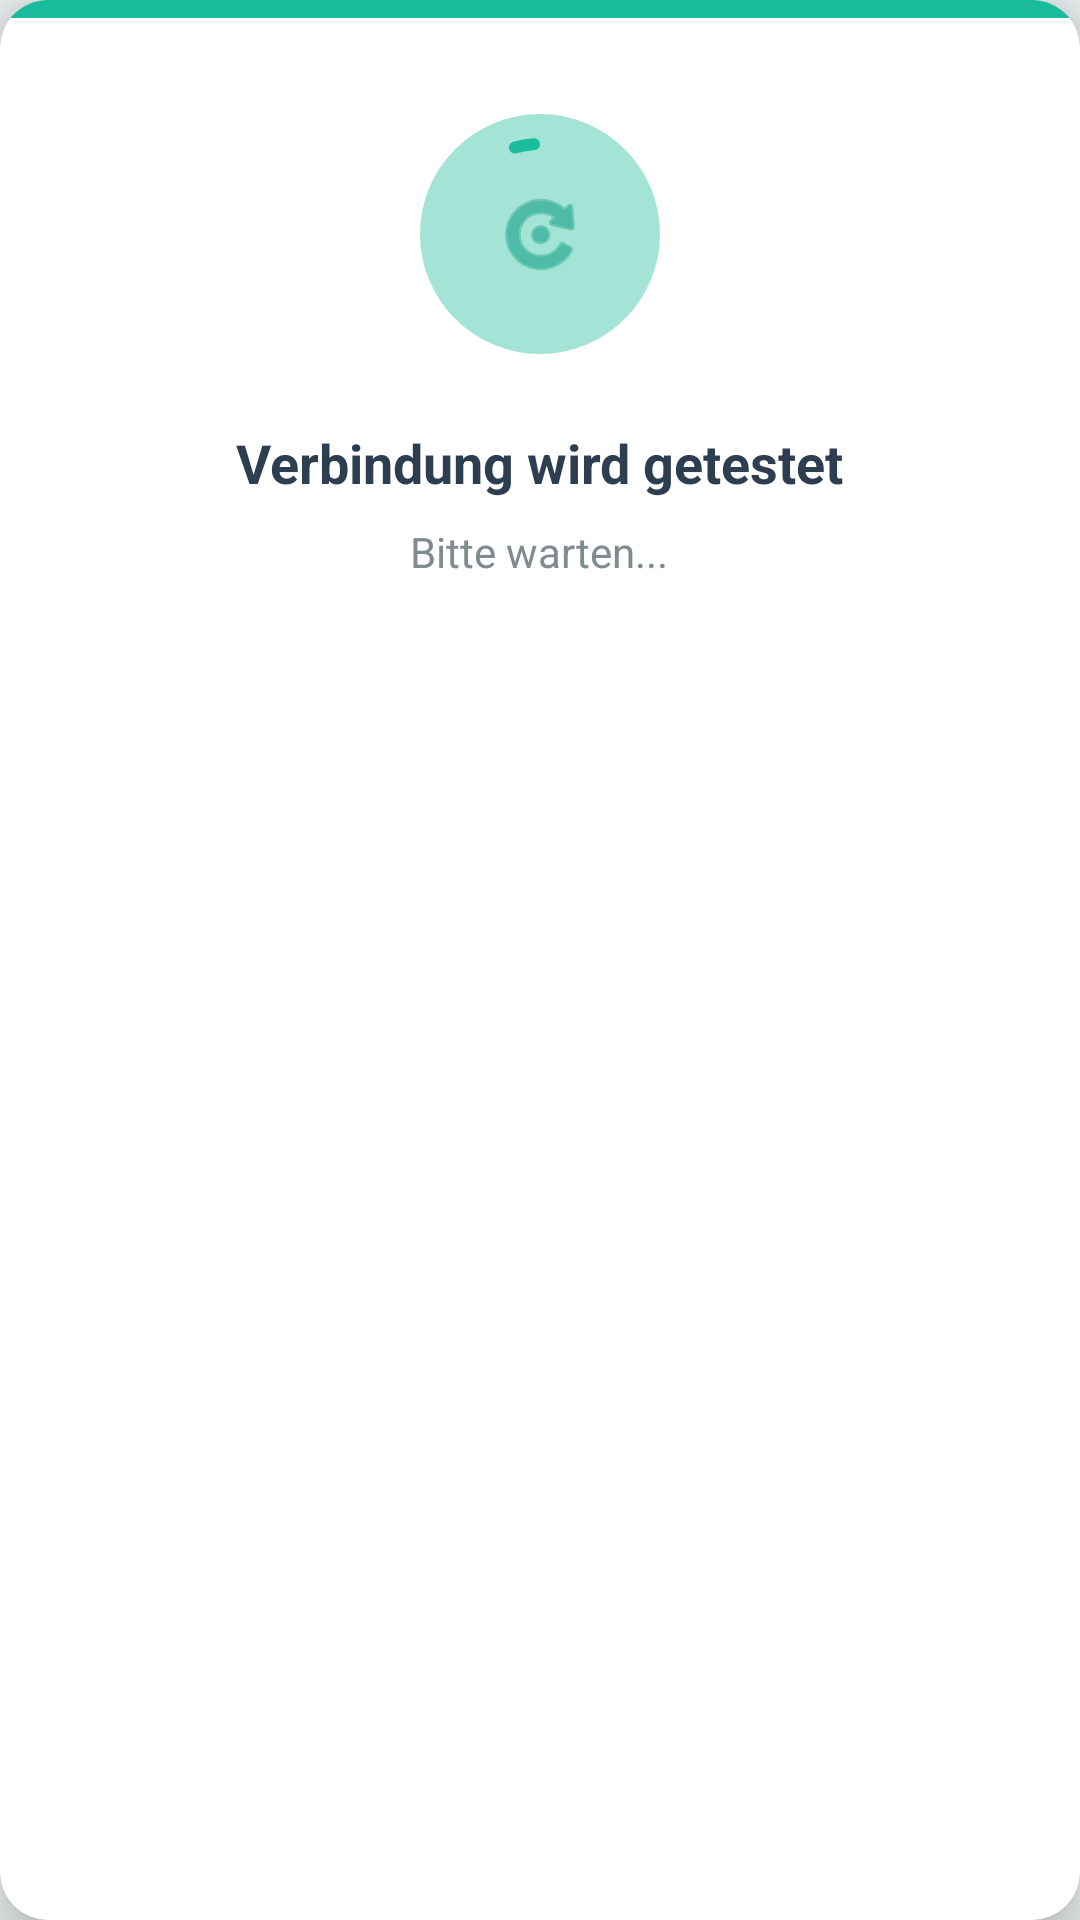

Icon bounding boxes for this 1080×1920 phone screenshot, format detection(x1, y1, x2, y2):
rotate: detection(505, 199, 575, 270)
